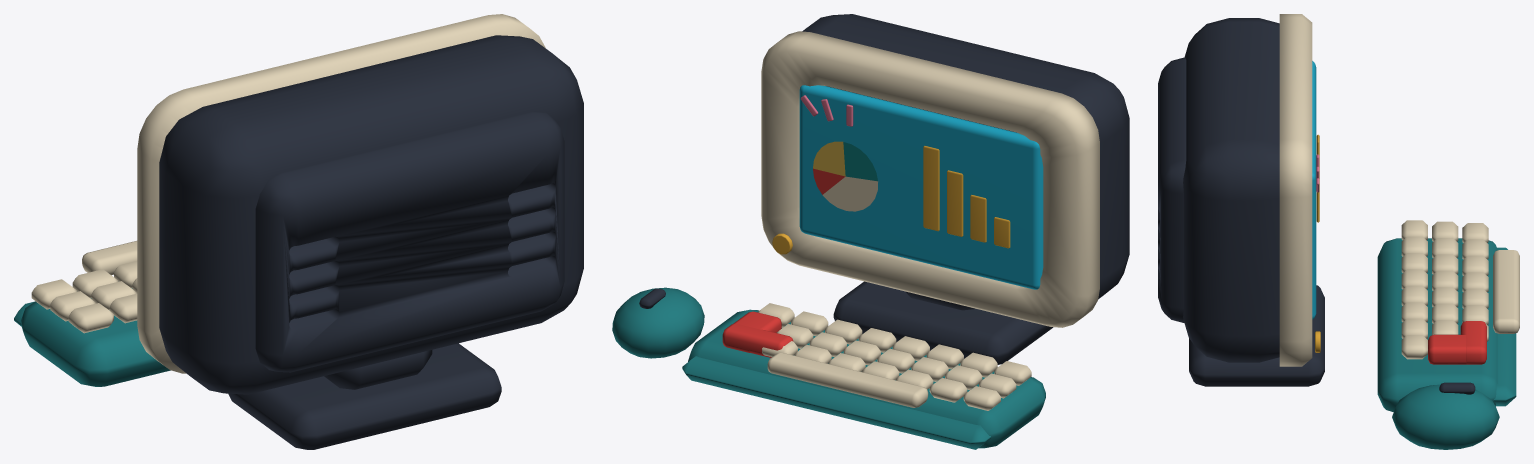
The model's file is computer.glb.
The picture shows the model from 3 angles, left to right: view 1: azimuth 30°, elevation 25°; view 2: azimuth 150°, elevation 25°; view 3: azimuth 270°, elevation 25°; orthographic projection. The views are drawn at different scales.
Parts seen in each view (by area): view 1: Computer_Geometry; view 2: Computer_Geometry; view 3: Computer_Geometry.
Boxes of the visible parts, x1,y1,x2,y2 form: Computer_Geometry: (14, 14, 583, 449); Computer_Geometry: (612, 14, 1129, 449); Computer_Geometry: (1158, 14, 1519, 449).
Bounding box in the file's own units: 1.78 × 1.17 × 1.41.
